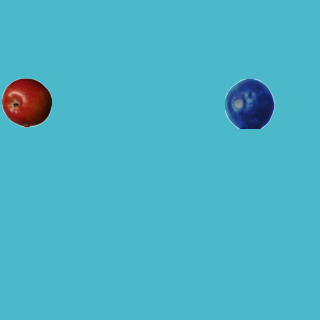Apple Braeburn: (1, 77, 51, 127)
Huckleberry: (224, 78, 274, 128)
